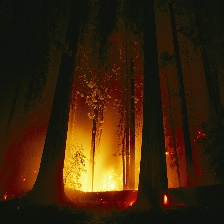fire: (79, 163, 119, 192)
